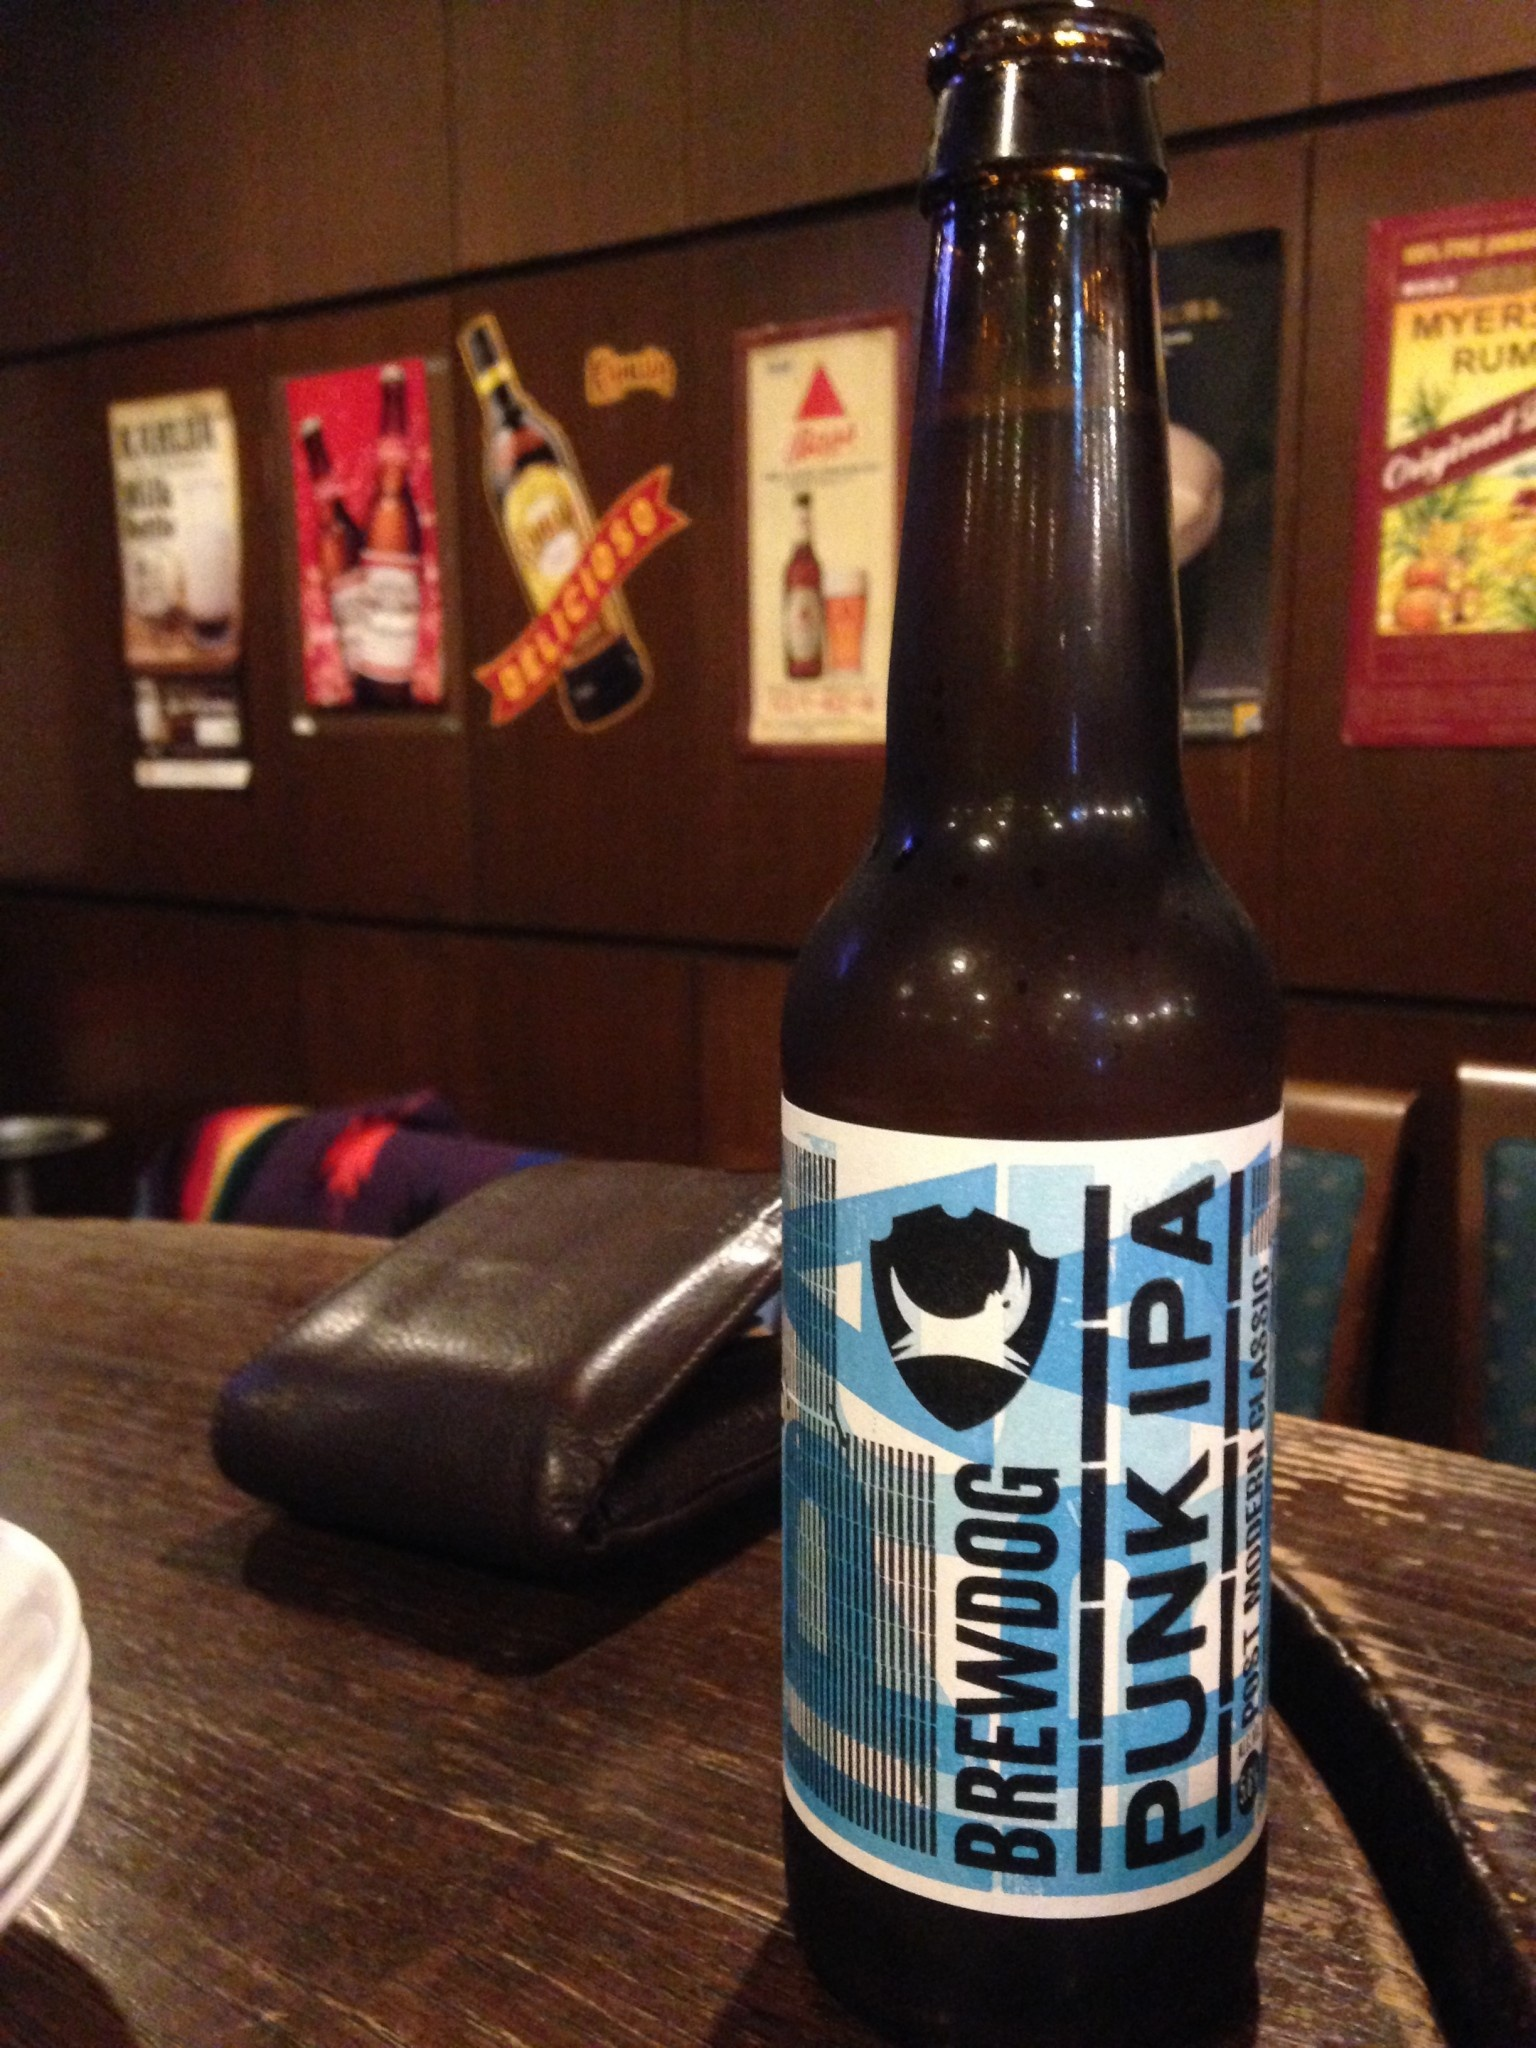beerBottle: (786, 68, 1276, 1995)
